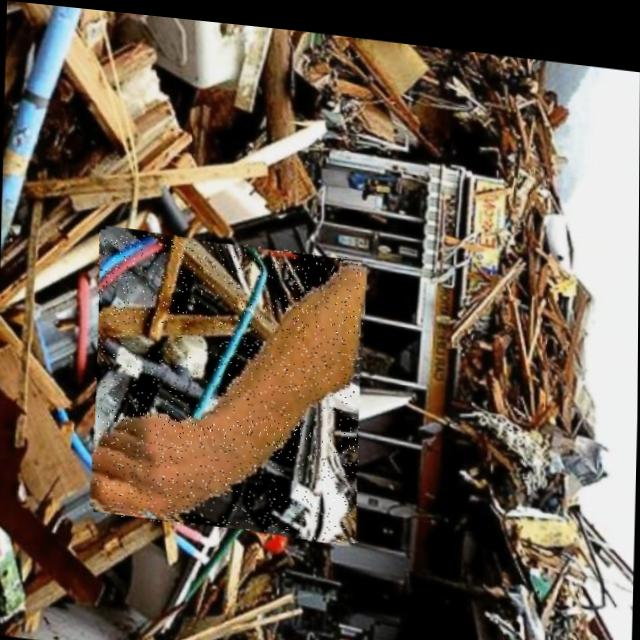Person in Rubble: (91, 224, 364, 538)
